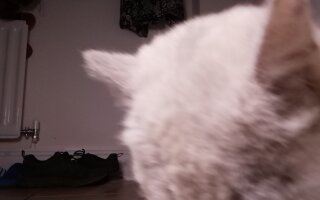bad: (72, 4, 319, 197)
